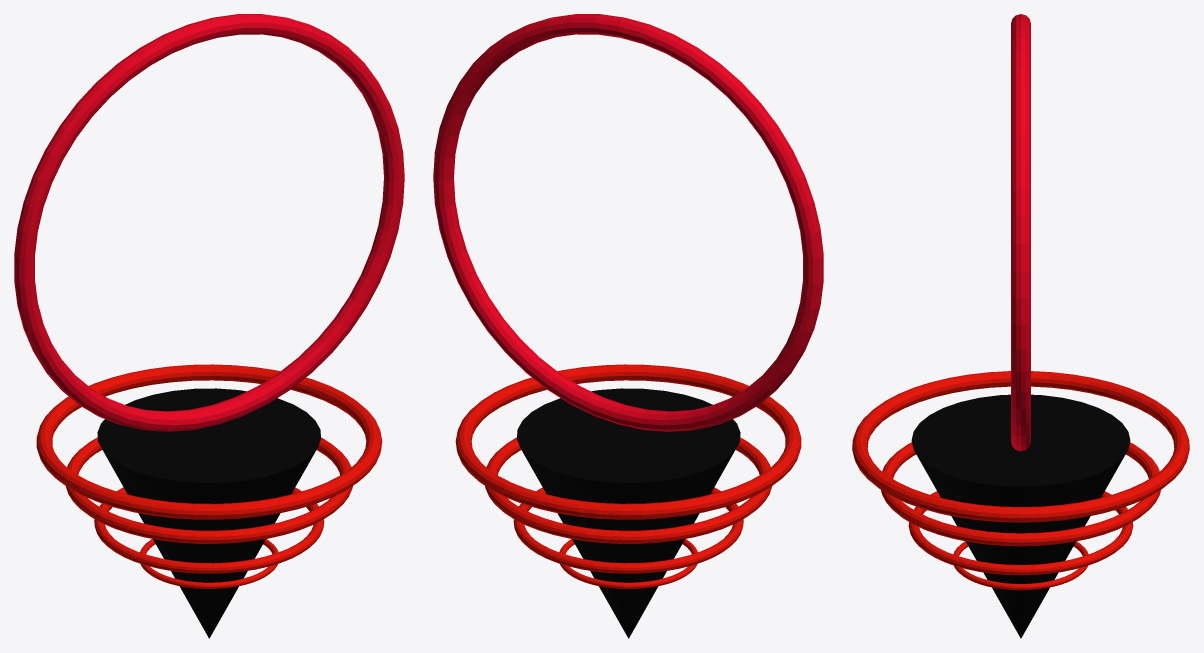
Rendered from Aros.fbx.
3 views of the same model, side by side, from view 1: azimuth 30°, elevation 25°; view 2: azimuth 150°, elevation 25°; view 3: azimuth 270°, elevation 25° (orthographic). The views are drawn at different scales.
Parts seen in each view (by area): view 1: Cone; view 2: Cone; view 3: Cone.
Boxes of the visible parts, x1=… form: Cone: x1=14, y1=14, x2=404, y2=638; Cone: x1=433, y1=14, x2=823, y2=638; Cone: x1=852, y1=14, x2=1189, y2=638.
Size of the model in its own units: 216 by 329 by 167.
